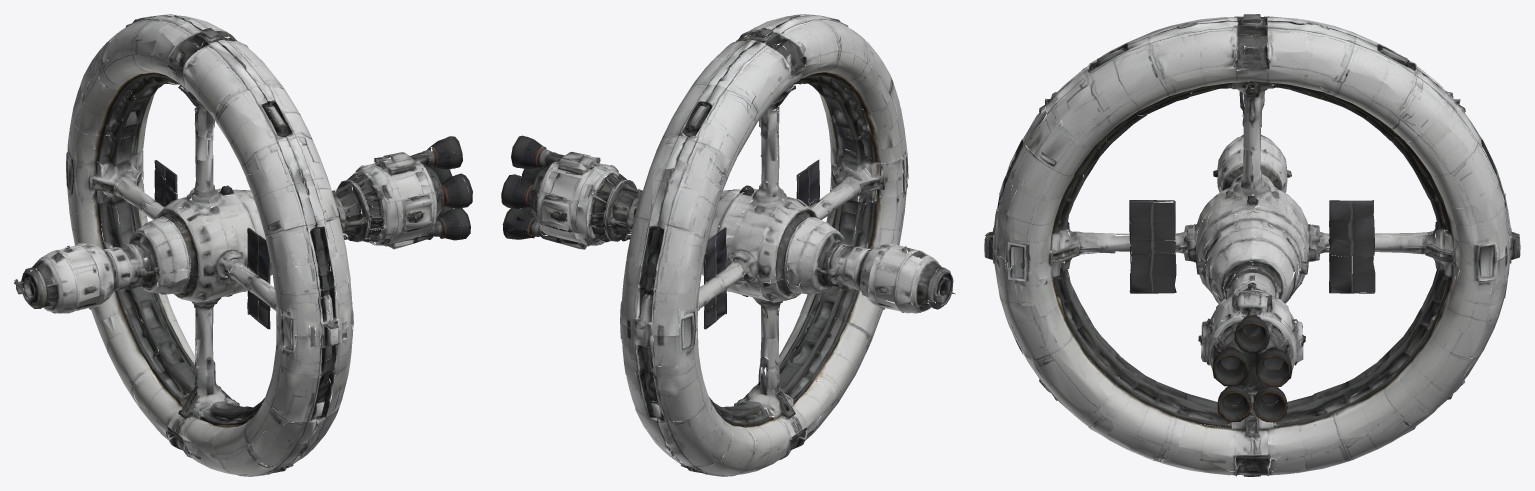
File: ship.glb
3 renders of one model, left to right at view 1: azimuth 30°, elevation 25°; view 2: azimuth 150°, elevation 25°; view 3: azimuth 270°, elevation 25°, orthographic. The views are drawn at different scales.
Parts seen in each view (by area): view 1: Ship; view 2: Ship; view 3: Ship.
Boxes of the visible parts, x1=… form: Ship: x1=14, y1=14, x2=472, y2=476; Ship: x1=501, y1=14, x2=955, y2=476; Ship: x1=984, y1=14, x2=1520, y2=476.
Size of the model in its own units: 0.9788 by 0.9209 by 0.9773.
1 material, 1 textured.
